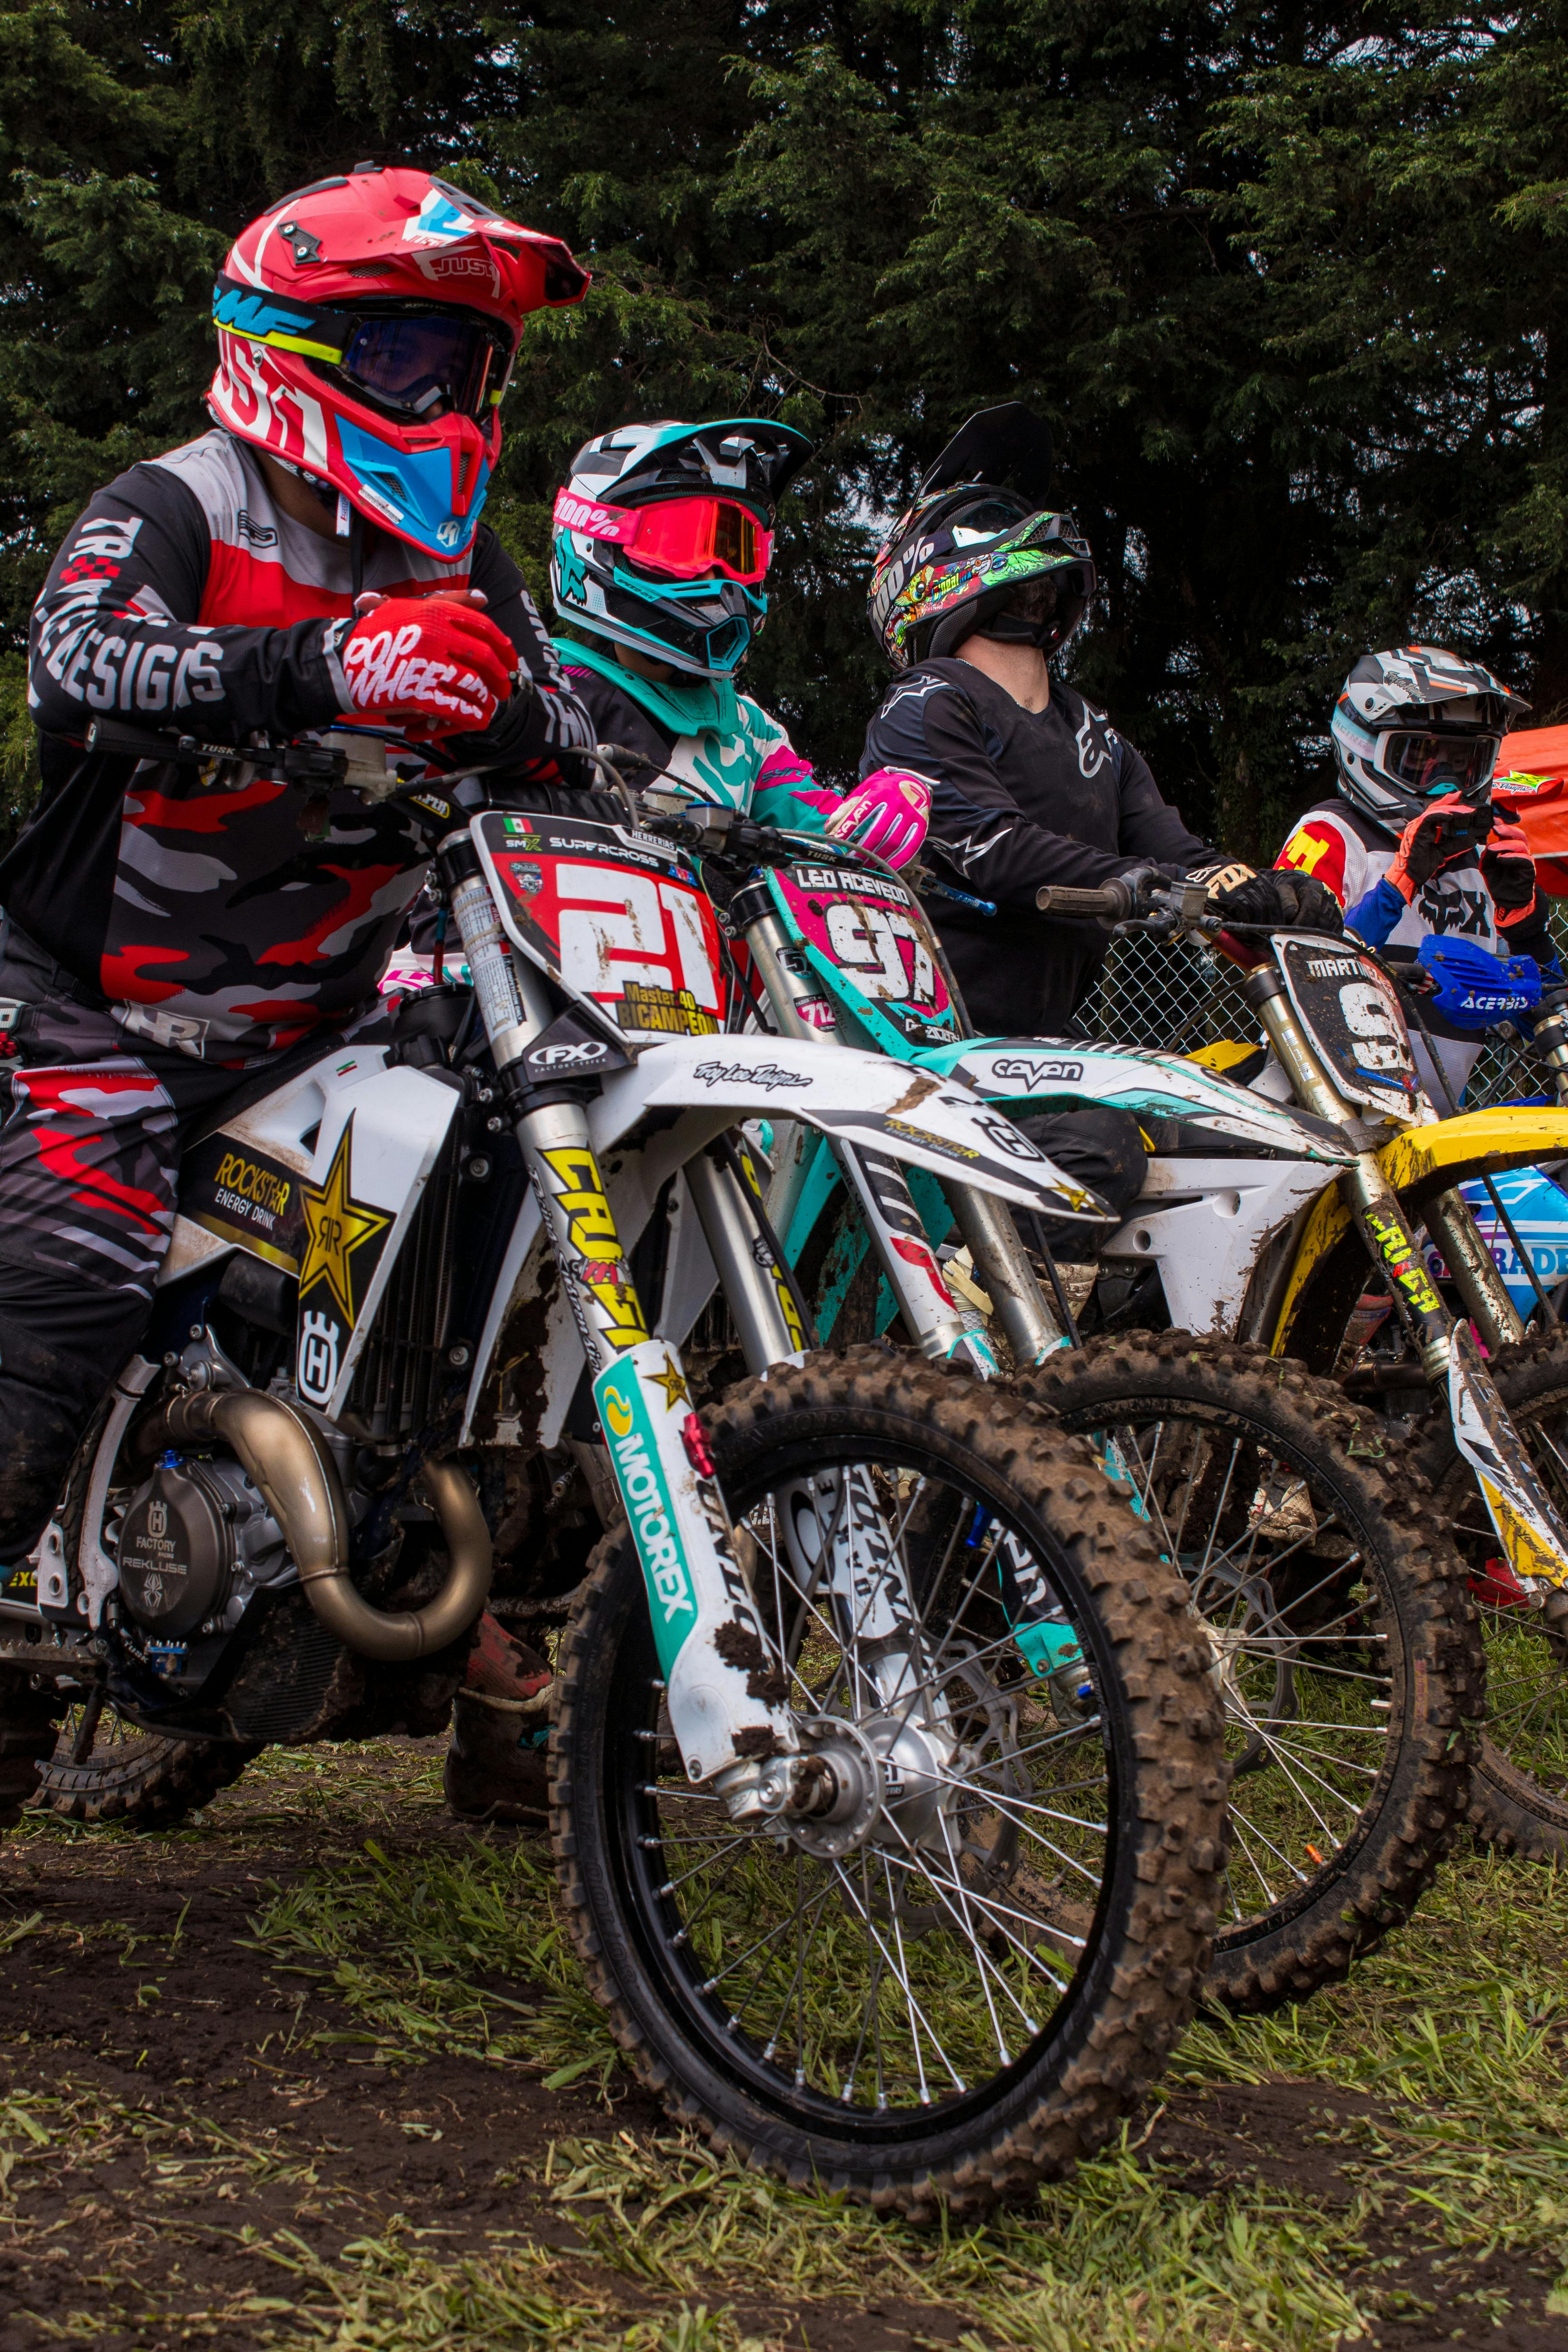capacete: (203, 166, 593, 574), (551, 411, 805, 684), (865, 473, 1099, 658), (1326, 639, 1531, 840)
